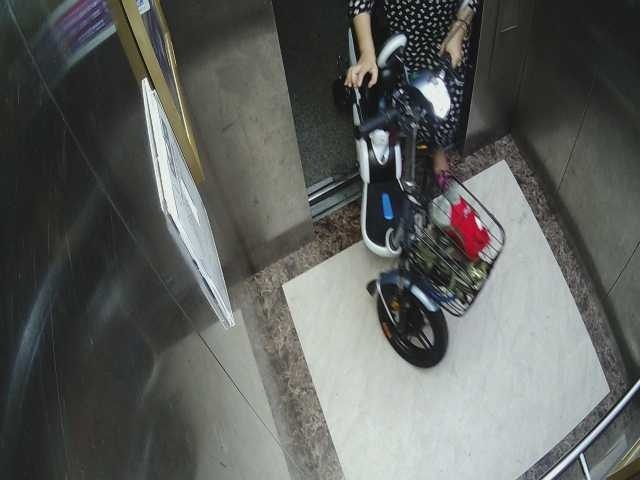emotor: (335, 20, 492, 366)
